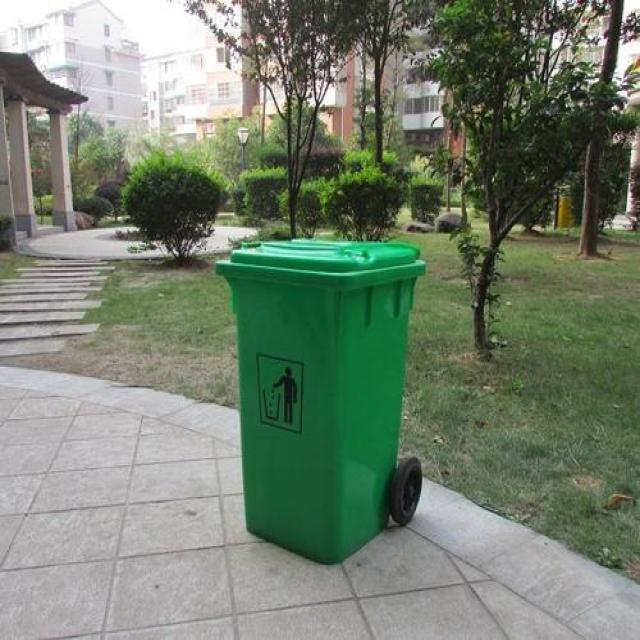garbage_bin: (214, 238, 425, 565)
